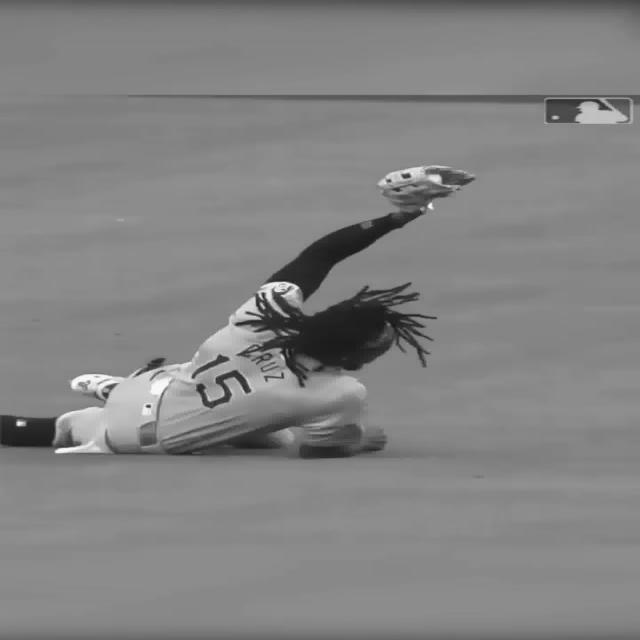baseball: (428, 174, 445, 186)
baseball_glove: (378, 164, 488, 208)
